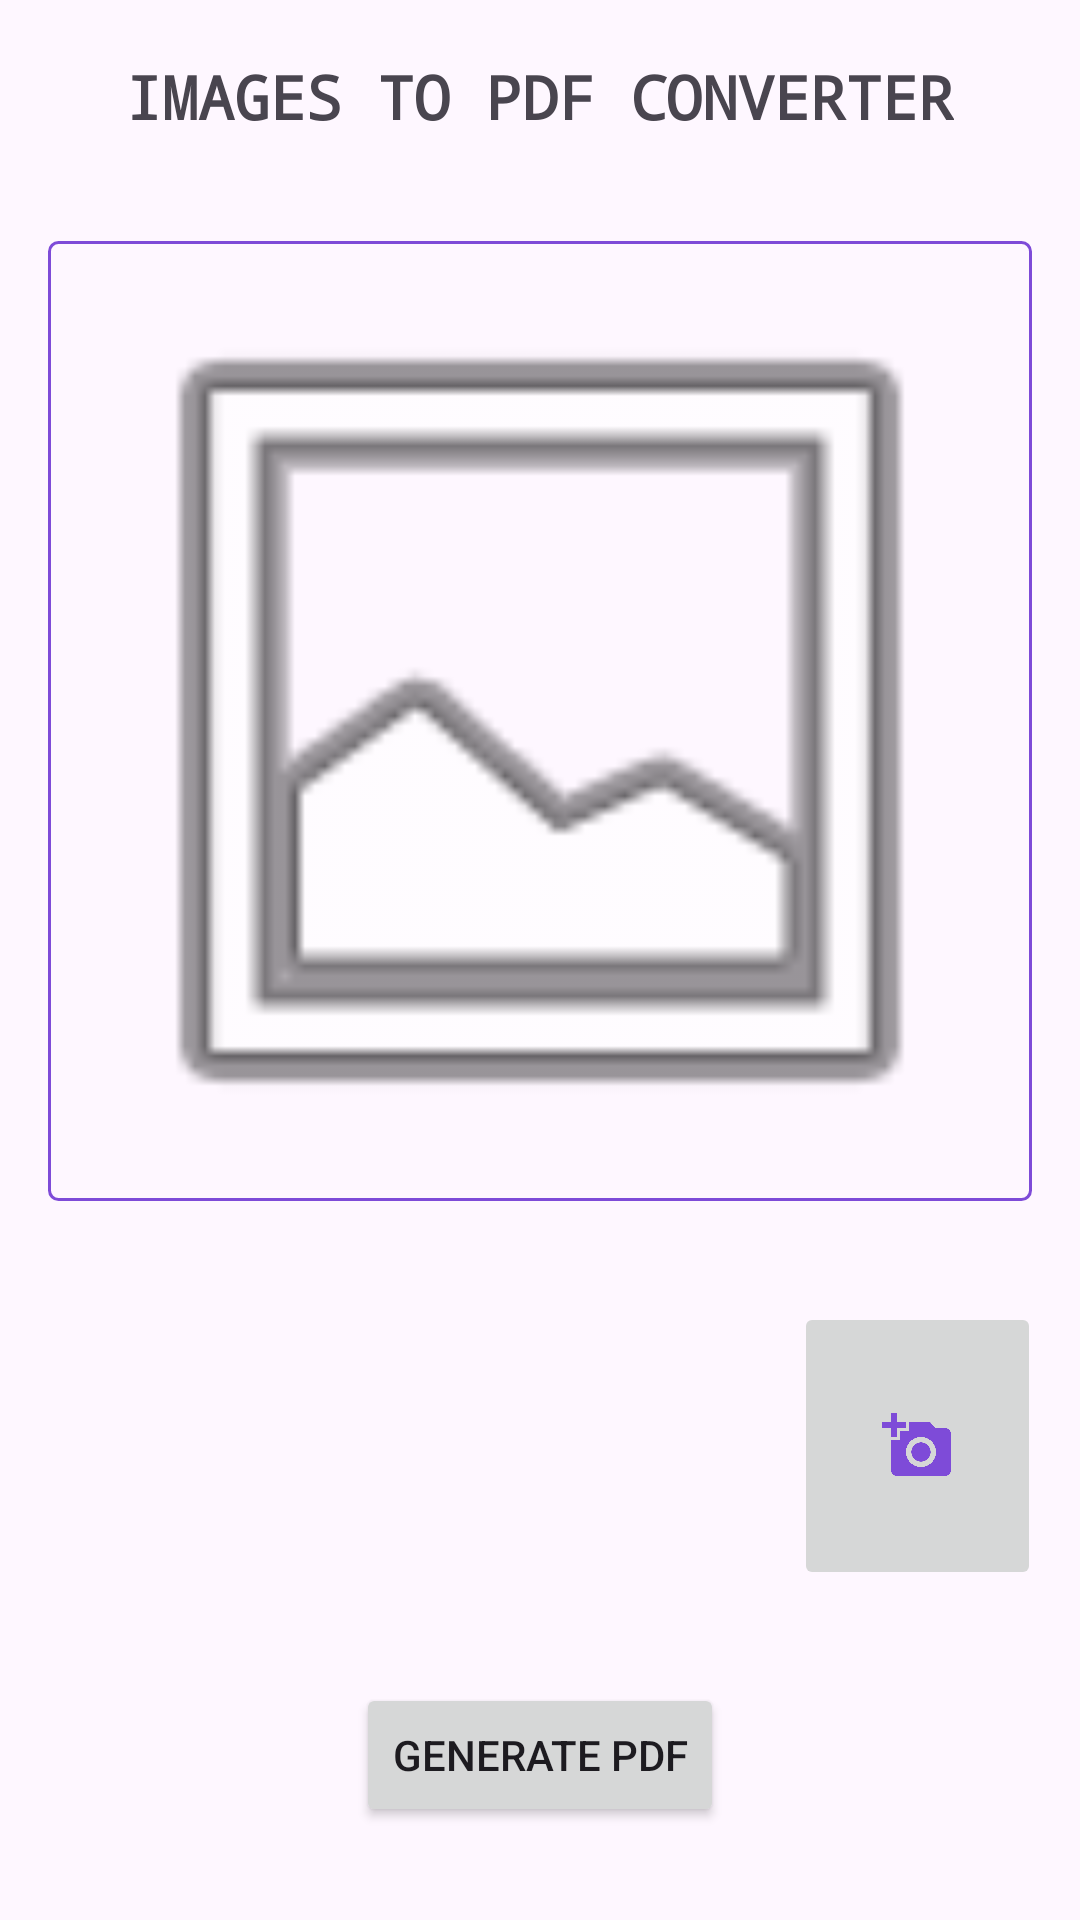

Named icons in this screenshot (1080w x 1920h) and their bounding boxes, (x1, y1, x2, y2):
add photo: (806, 1320, 1029, 1572)
